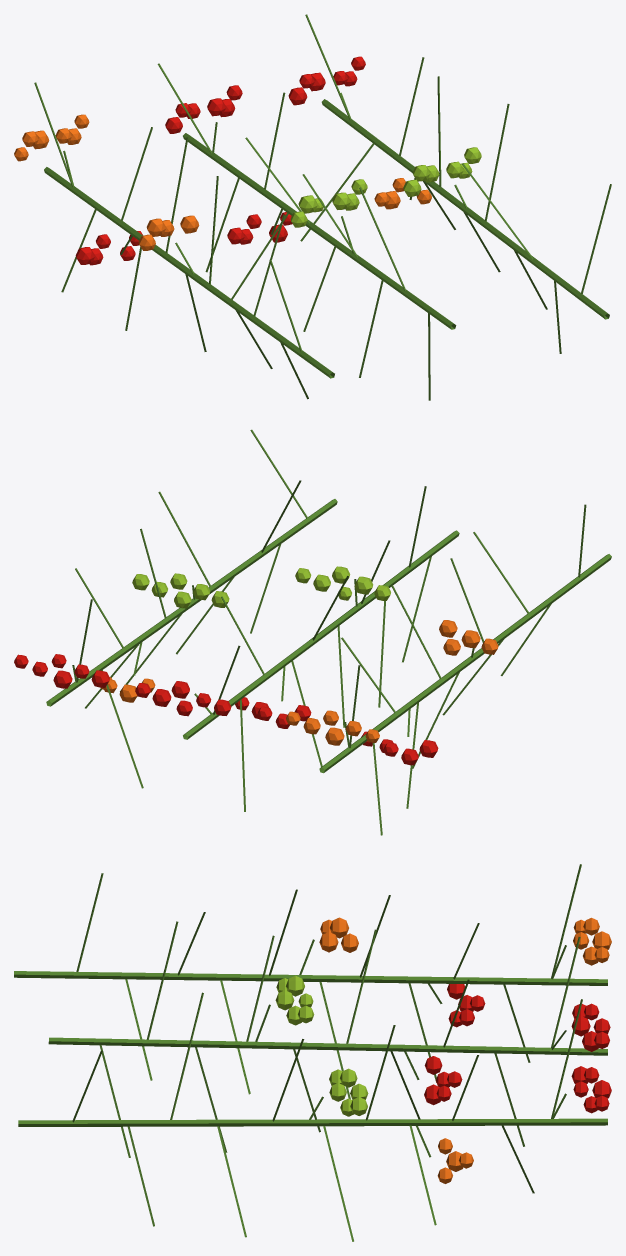
Rendered from r17c0_stems.obj.
The picture shows the model from 3 angles, top to bottom: view 1: azimuth 30°, elevation 25°; view 2: azimuth 150°, elevation 25°; view 3: azimuth 270°, elevation 25°; orthographic projection. The views are drawn at different scales.
Parts seen in each view (by area): view 1: r17c0_stems; view 2: r17c0_stems; view 3: r17c0_stems.
Boxes of the visible parts, x1=… form: r17c0_stems: x1=14, y1=14, x2=611, y2=400; r17c0_stems: x1=14, y1=429, x2=611, y2=835; r17c0_stems: x1=14, y1=864, x2=611, y2=1241.
Size of the model in its own units: 1.48 by 0.808 by 1.99.
